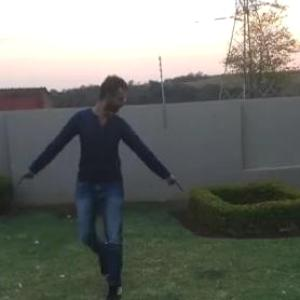land: (6, 71, 186, 299)
